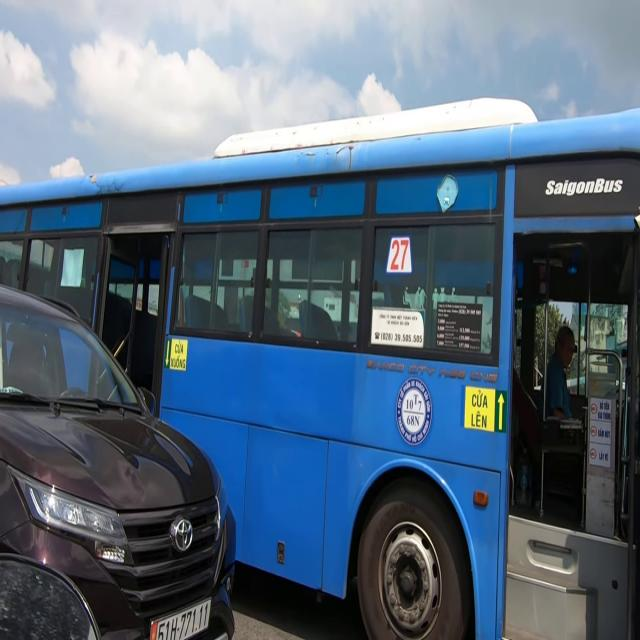bien_trang: (148, 598, 209, 640)
